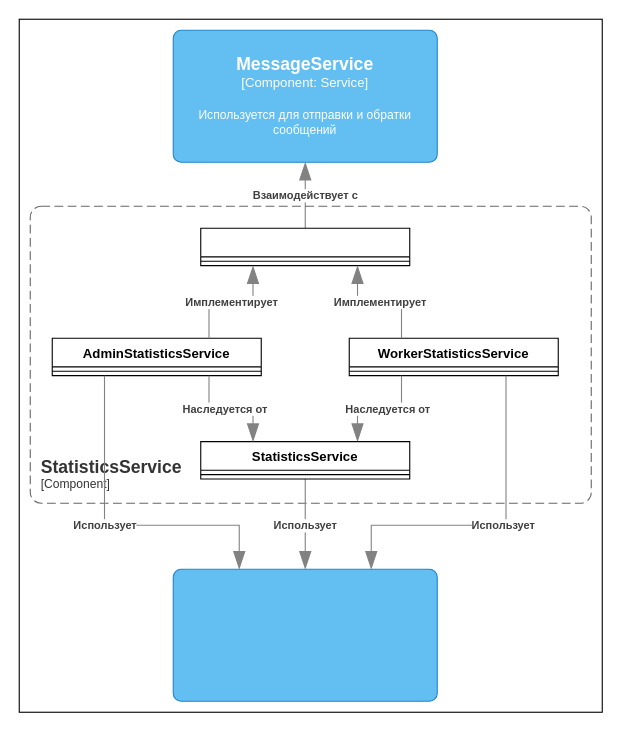
Some shapes in this 622 by 732 pixel diagram are drawn without their labels. Here are the shapes that lost their labels. From the top down, the centre of each, then its label:
At [305,246]: "IUserStatisticsService".
At [304,634]: "TrackerRepository [Component: Repository] Отвечает за общение с базой данных".
